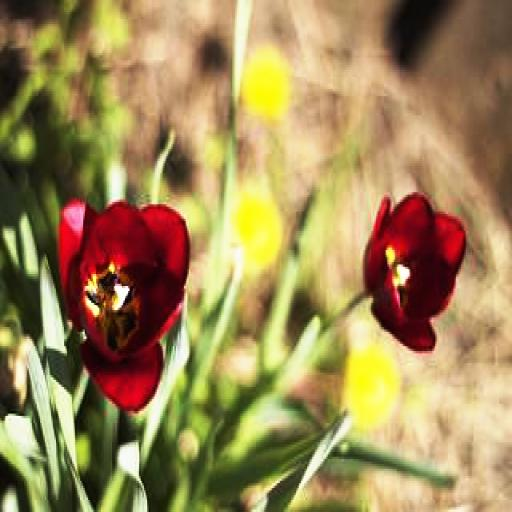tulip: (58, 197, 192, 414), (368, 192, 464, 358)
